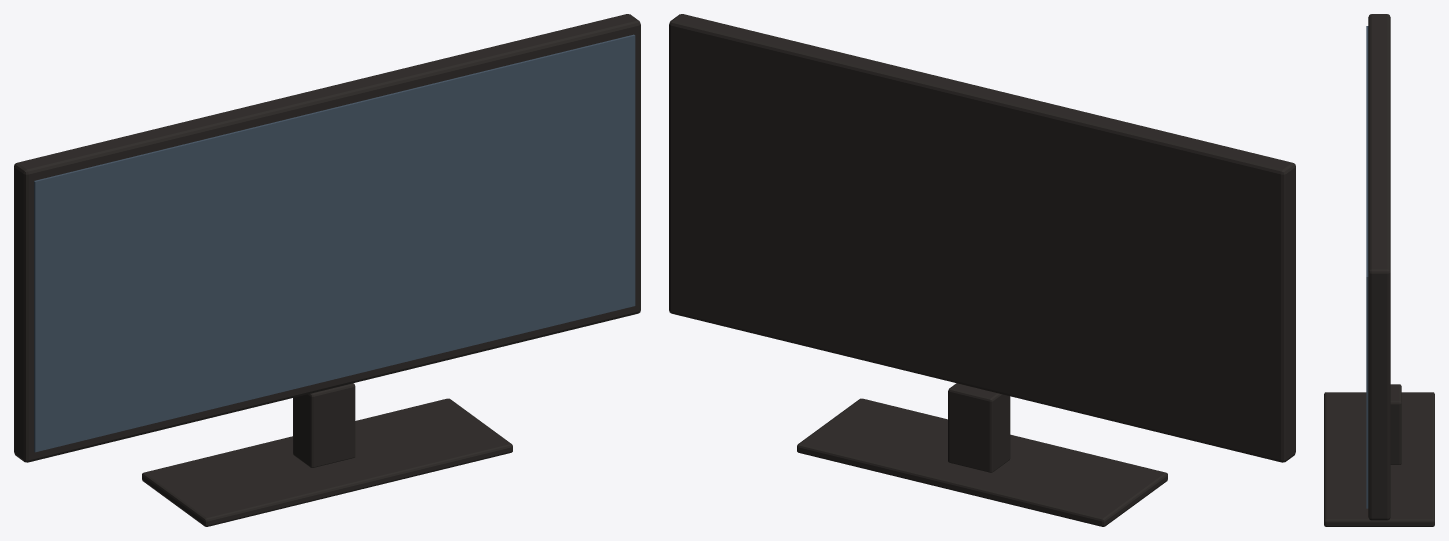
Rendered from hh_television.glb.
3 views of the same model, side by side, from view 1: azimuth 30°, elevation 25°; view 2: azimuth 150°, elevation 25°; view 3: azimuth 270°, elevation 25° (orthographic). The views are drawn at different scales.
Parts seen in each view (by area): view 1: screen, screen_body, foot, neck; view 2: screen_body, foot, neck; view 3: screen_body, foot, screen, neck.
Boxes of the visible parts, x1,y1,x2,y2 form: screen: (34, 34, 635, 452); screen_body: (14, 14, 640, 462); foot: (142, 398, 512, 526); neck: (293, 383, 355, 467); screen_body: (669, 14, 1295, 462); foot: (797, 398, 1167, 526); neck: (948, 383, 1010, 472); screen_body: (1368, 14, 1390, 520); foot: (1324, 392, 1434, 526); screen: (1366, 26, 1368, 508); neck: (1390, 384, 1401, 464).
Size of the model in its own units: 1.1 by 0.6395 by 0.2.
